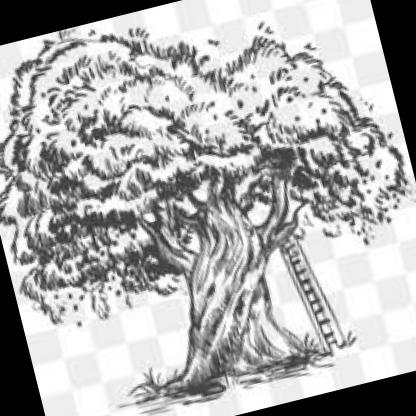branch_cut: (120, 164, 306, 296)
crown_dizzy: (0, 0, 416, 329)
root_none: (153, 331, 325, 413)
trunk_bark: (171, 272, 295, 361)
